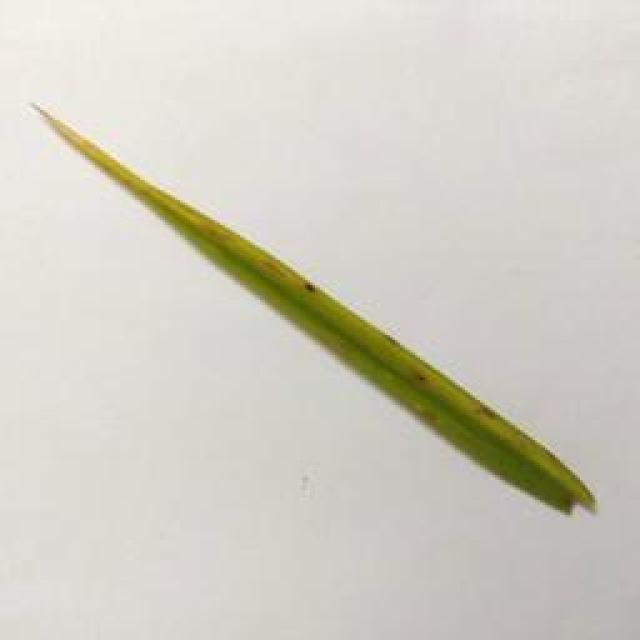Bacterial_Blight: (33, 100, 301, 291)
Brown_Spot: (542, 447, 602, 503), (471, 396, 502, 430), (418, 405, 444, 435), (384, 330, 411, 354), (294, 276, 323, 298), (411, 366, 436, 391)
